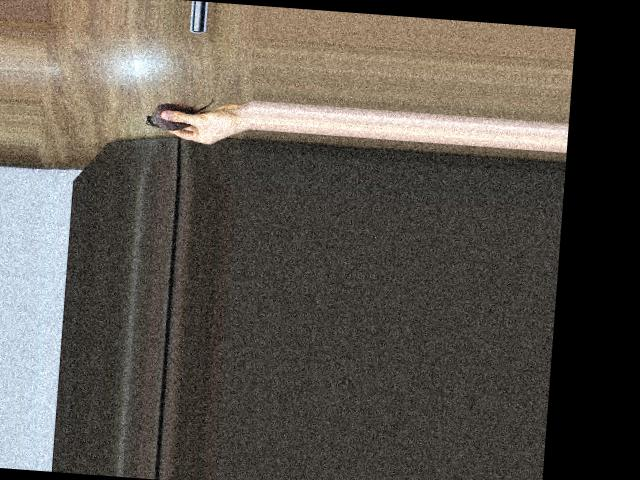beet: (144, 92, 212, 133)
